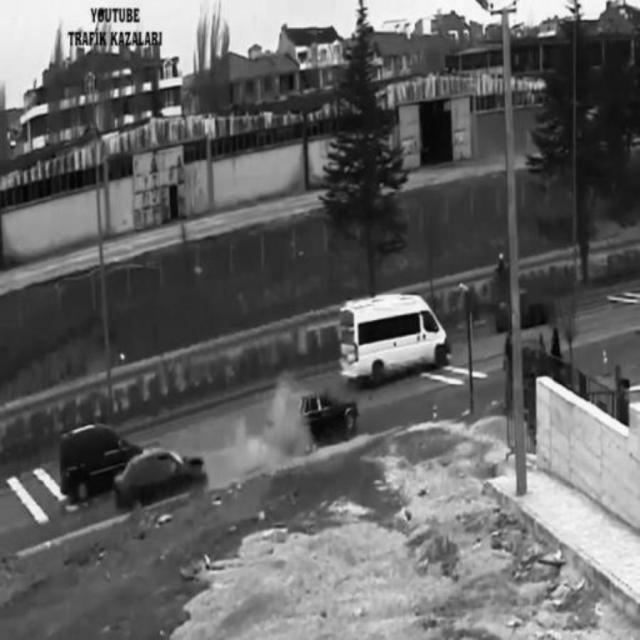vehicle: (338, 298, 451, 378), (252, 390, 362, 451), (60, 429, 143, 505), (116, 450, 204, 504)
